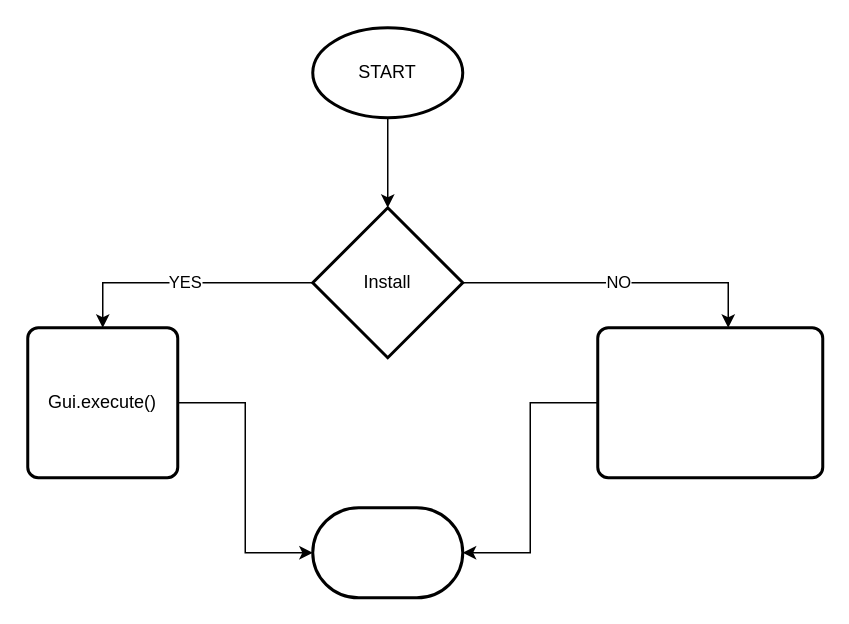
The diagram is 849 pixels wide and 624 high, and some of its shapes have lost their labels. The centre of each missing label's shape, as x and y in pixels:
Gui.destroy_session(): the point at 710,402
STOP: the point at 387,552
